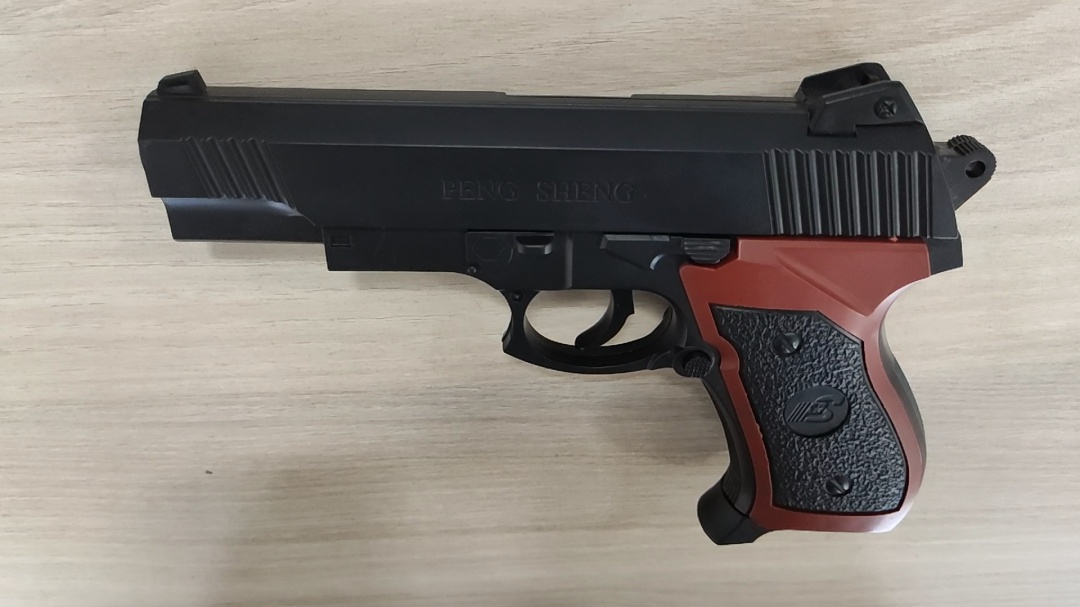gun: (393, 235, 480, 307)
